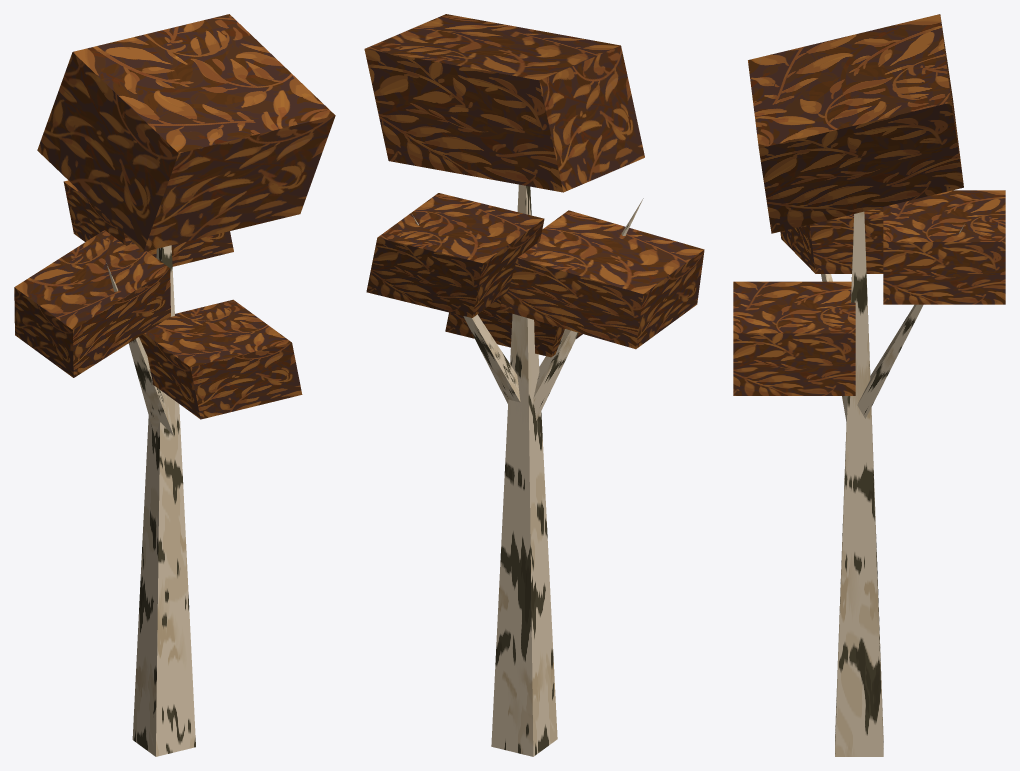
Rendered from D_Tree_tall_lowest_poly.fbx.
3 views of the same model, side by side, from view 1: azimuth 30°, elevation 25°; view 2: azimuth 150°, elevation 25°; view 3: azimuth 270°, elevation 25° (orthographic). The views are drawn at different scales.
Parts seen in each view (by area): view 1: Tall_tree_trunk; view 2: Tall_tree_trunk; view 3: Tall_tree_trunk.
Part boxes in pixels (x1,y1,x2,y2): Tall_tree_trunk: (14,14,335,756); Tall_tree_trunk: (364,14,704,756); Tall_tree_trunk: (733,14,1005,756).
Size of the model in its own units: 5.02 by 12.72 by 4.45.
